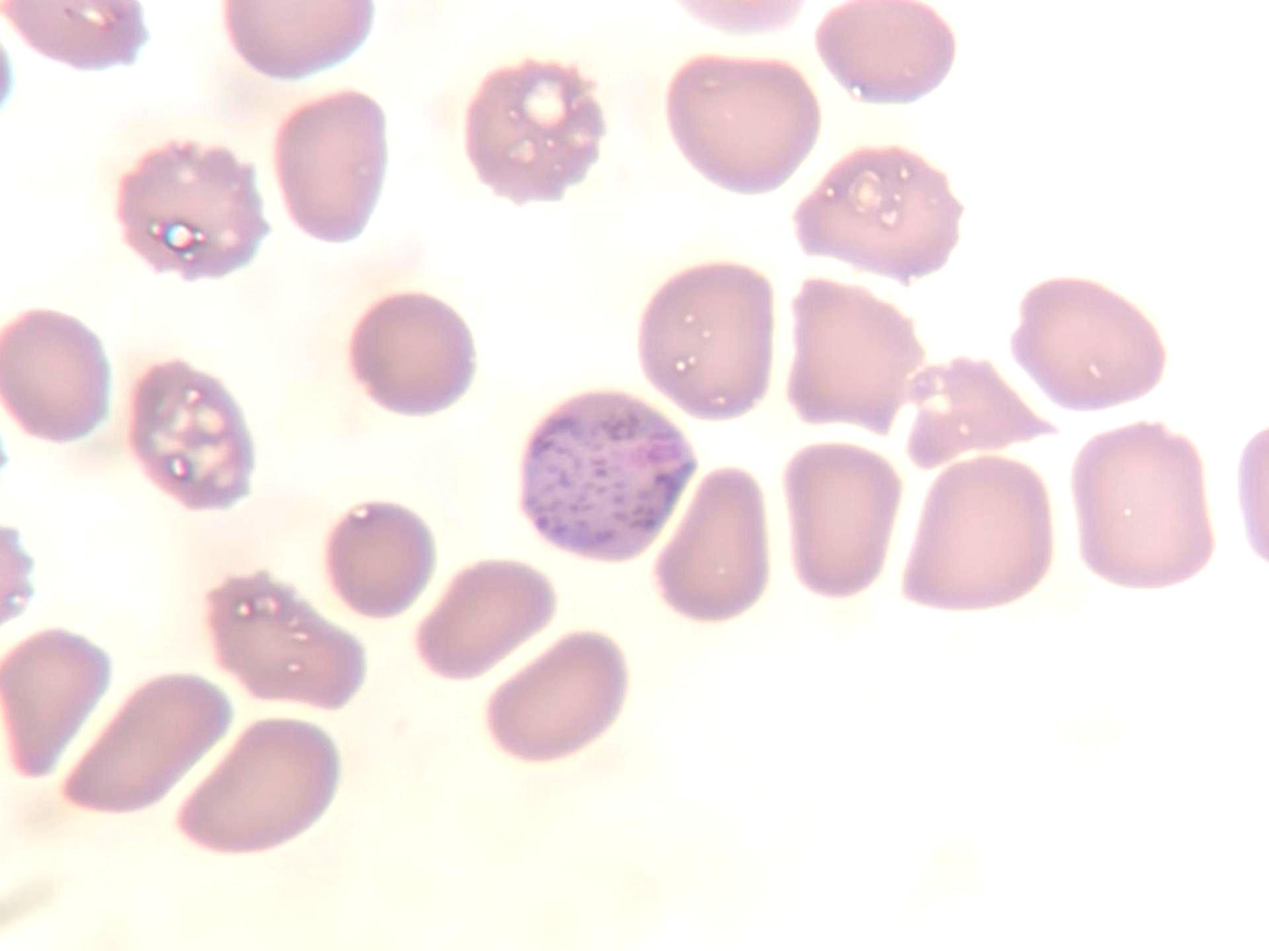Infected: (520, 384, 696, 561)
Uninfected: (53, 677, 234, 813), (207, 569, 367, 715), (903, 459, 1053, 614), (112, 140, 266, 289), (1075, 424, 1212, 590), (798, 142, 963, 279), (661, 49, 815, 193), (637, 261, 778, 418), (183, 717, 336, 859), (1005, 274, 1166, 408), (784, 274, 921, 431), (130, 355, 254, 515), (465, 65, 602, 204), (489, 631, 629, 762), (652, 463, 768, 619), (782, 444, 897, 597), (903, 355, 1059, 467), (271, 89, 385, 242), (421, 556, 554, 681), (0, 626, 106, 781), (815, 0, 959, 114), (344, 292, 467, 418), (0, 305, 107, 445), (324, 499, 433, 617)
